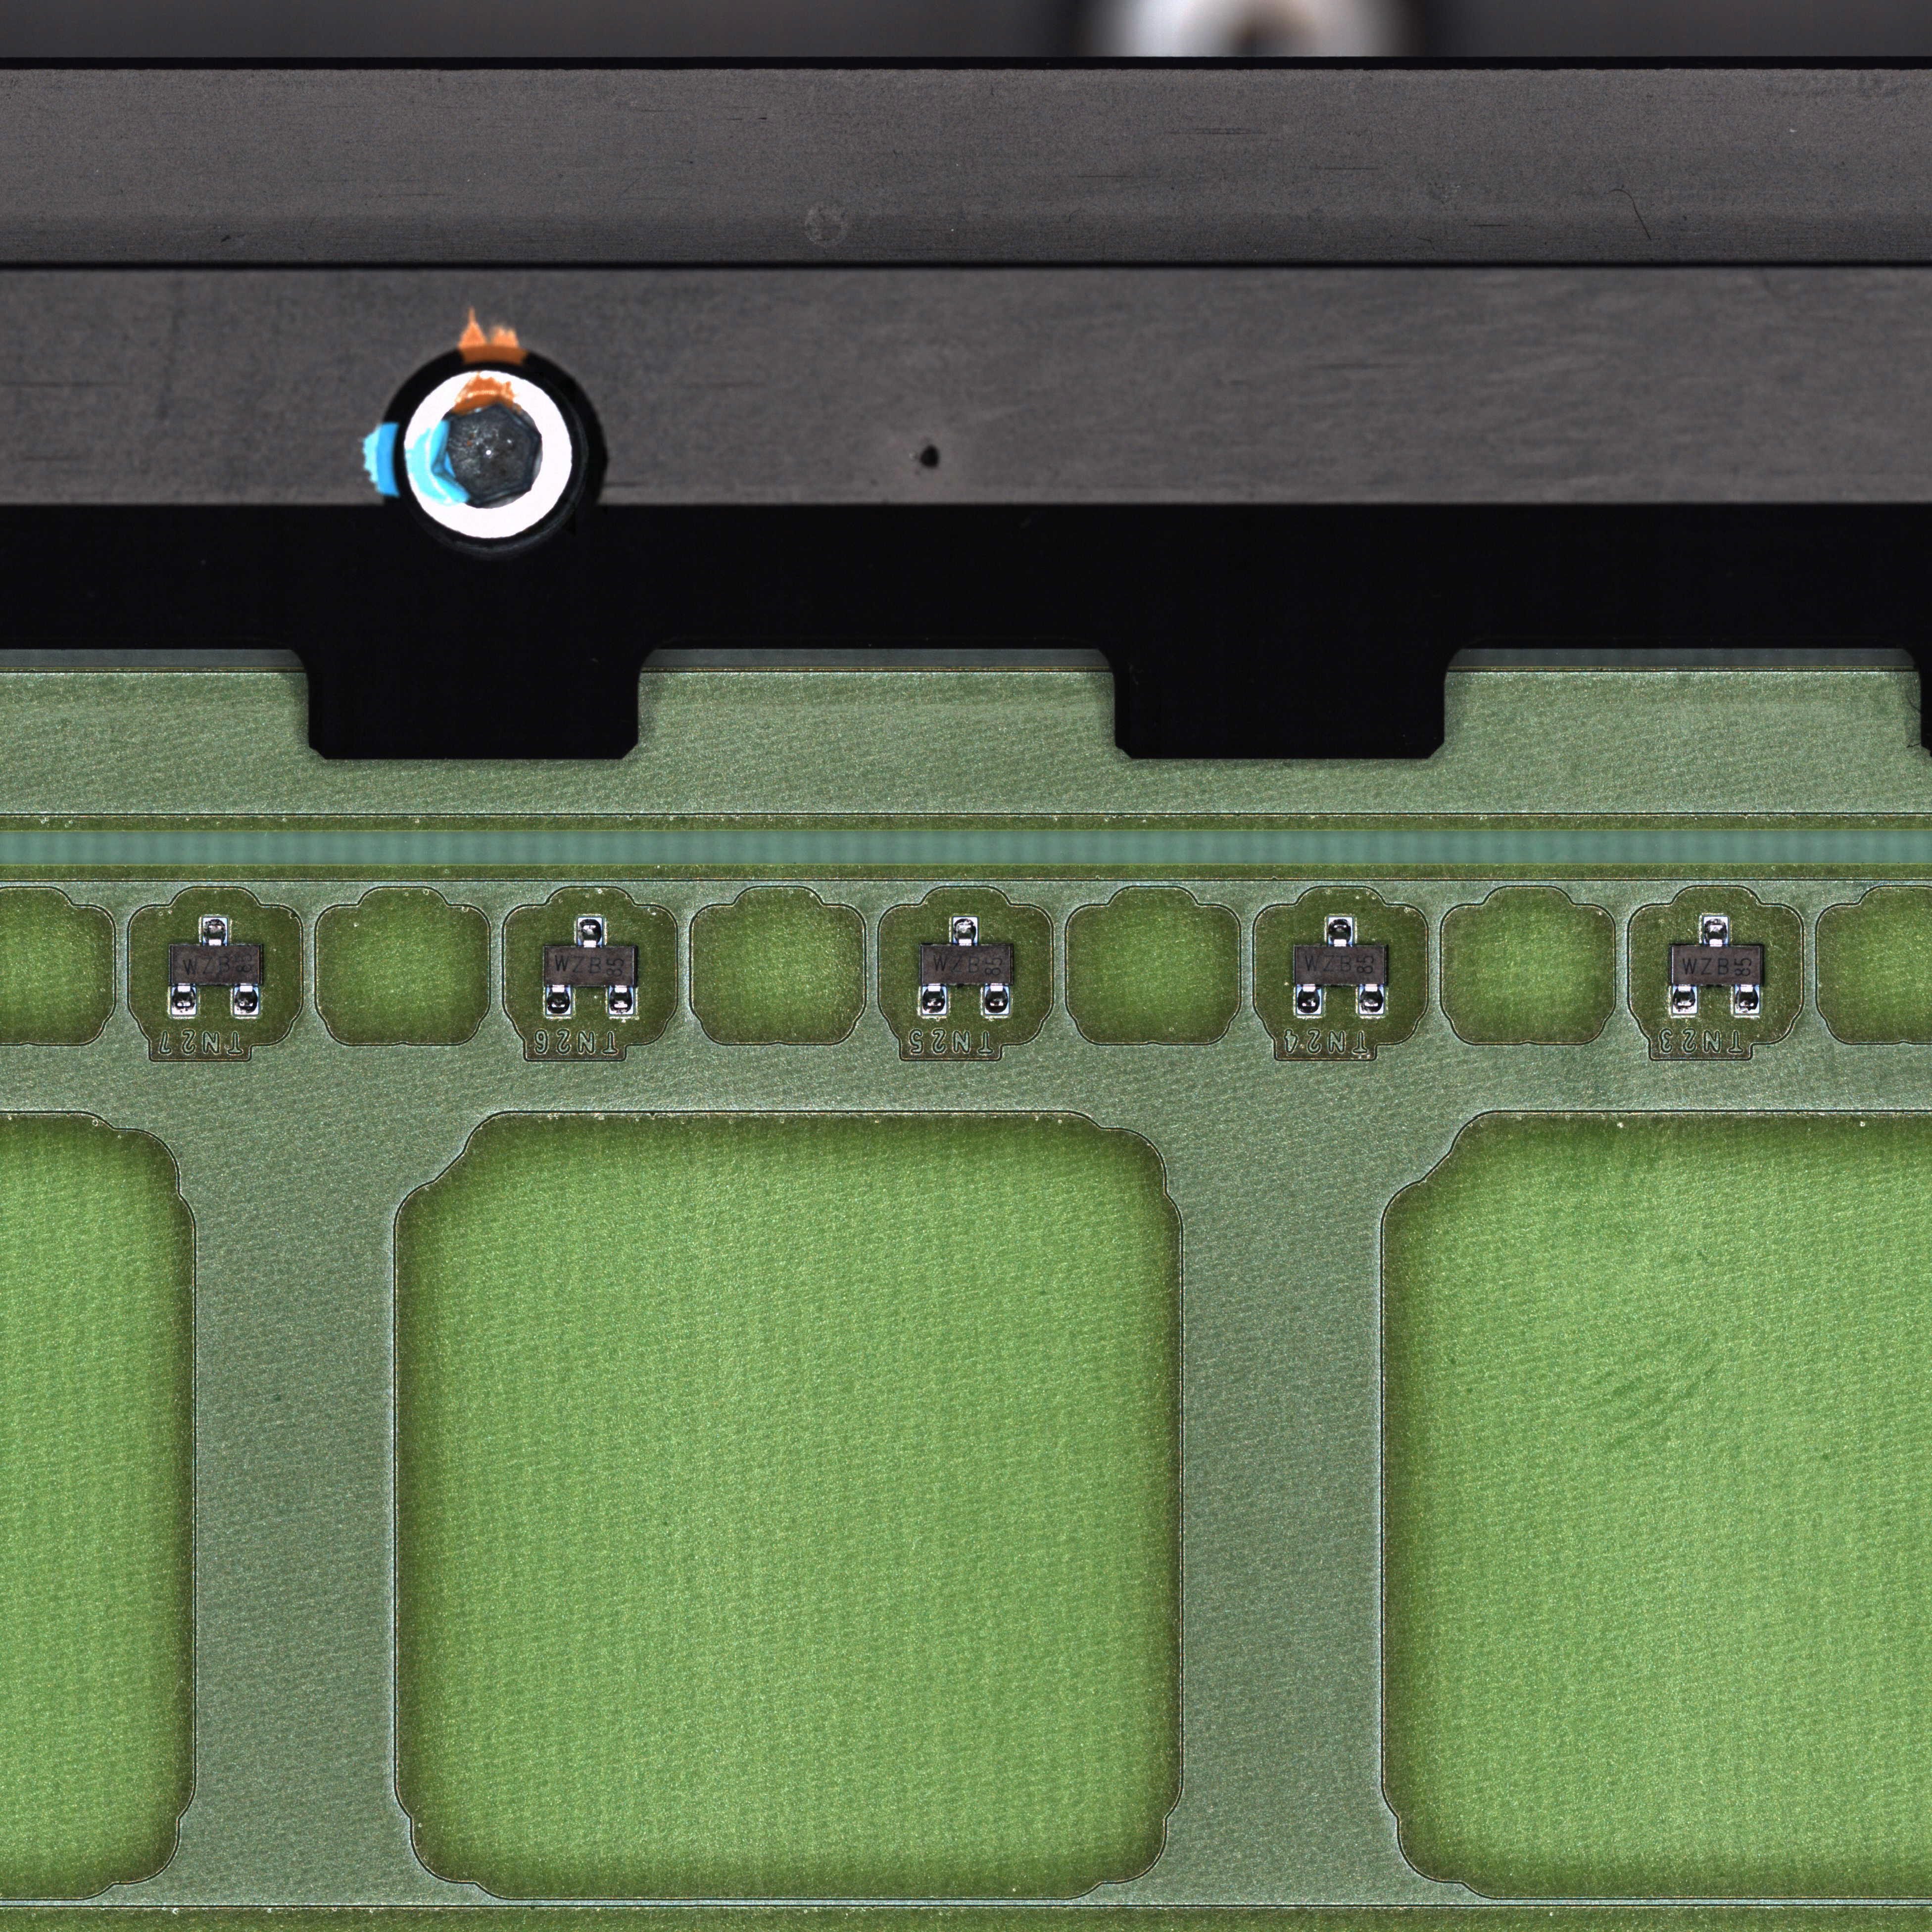Package: (1295, 945, 1385, 985), (170, 945, 260, 985), (922, 945, 1012, 985), (1672, 947, 1762, 985), (545, 947, 633, 985)
Solder: (545, 984, 571, 1016), (170, 984, 196, 1016), (577, 915, 603, 947), (1295, 985, 1322, 1016), (607, 985, 633, 1016), (922, 984, 947, 1016), (1704, 915, 1729, 947), (1359, 984, 1384, 1016), (234, 984, 258, 1016), (984, 984, 1008, 1016), (172, 984, 196, 1016), (202, 916, 226, 947), (1327, 916, 1352, 947), (1672, 985, 1697, 1014), (952, 918, 977, 945), (1736, 985, 1759, 1014)
